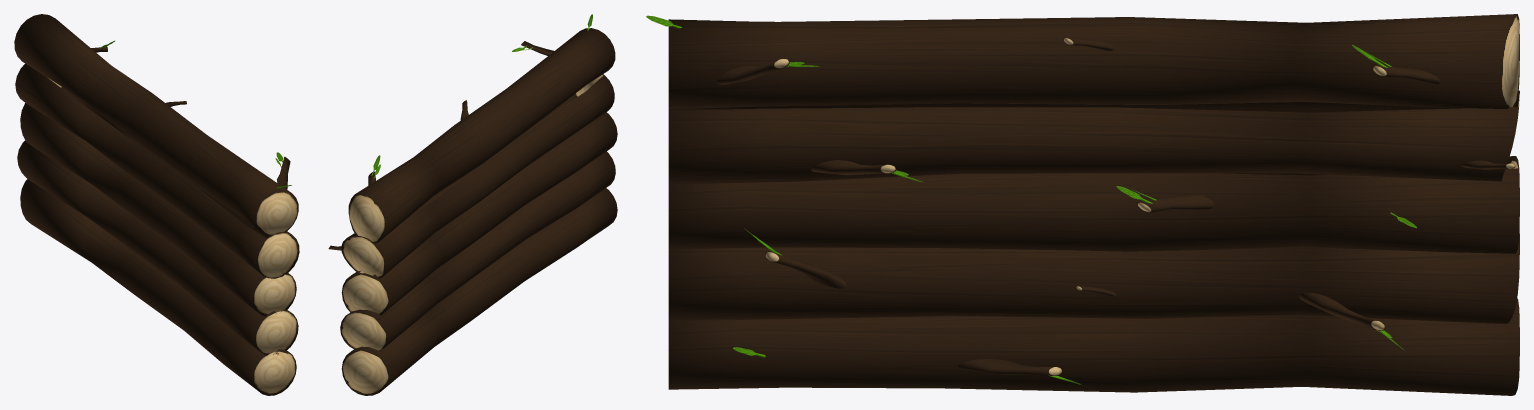
File: logWall.fbx
The picture shows the model from 3 angles, left to right: view 1: azimuth 30°, elevation 25°; view 2: azimuth 150°, elevation 25°; view 3: azimuth 270°, elevation 25°; orthographic projection. The views are drawn at different scales.
Parts seen in each view (by area): view 1: WallTop, WallBottom; view 2: WallTop, WallBottom; view 3: WallTop, WallBottom.
Part boxes in pixels (x1,y1,x2,y2): WallTop: (14,14,299,316); WallBottom: (17,140,298,395); WallTop: (328,14,617,315); WallBottom: (340,151,617,395); WallTop: (646,14,1519,253); WallBottom: (668,228,1519,395).
Bounding box in the file's own units: 71.71 × 218 × 451.
